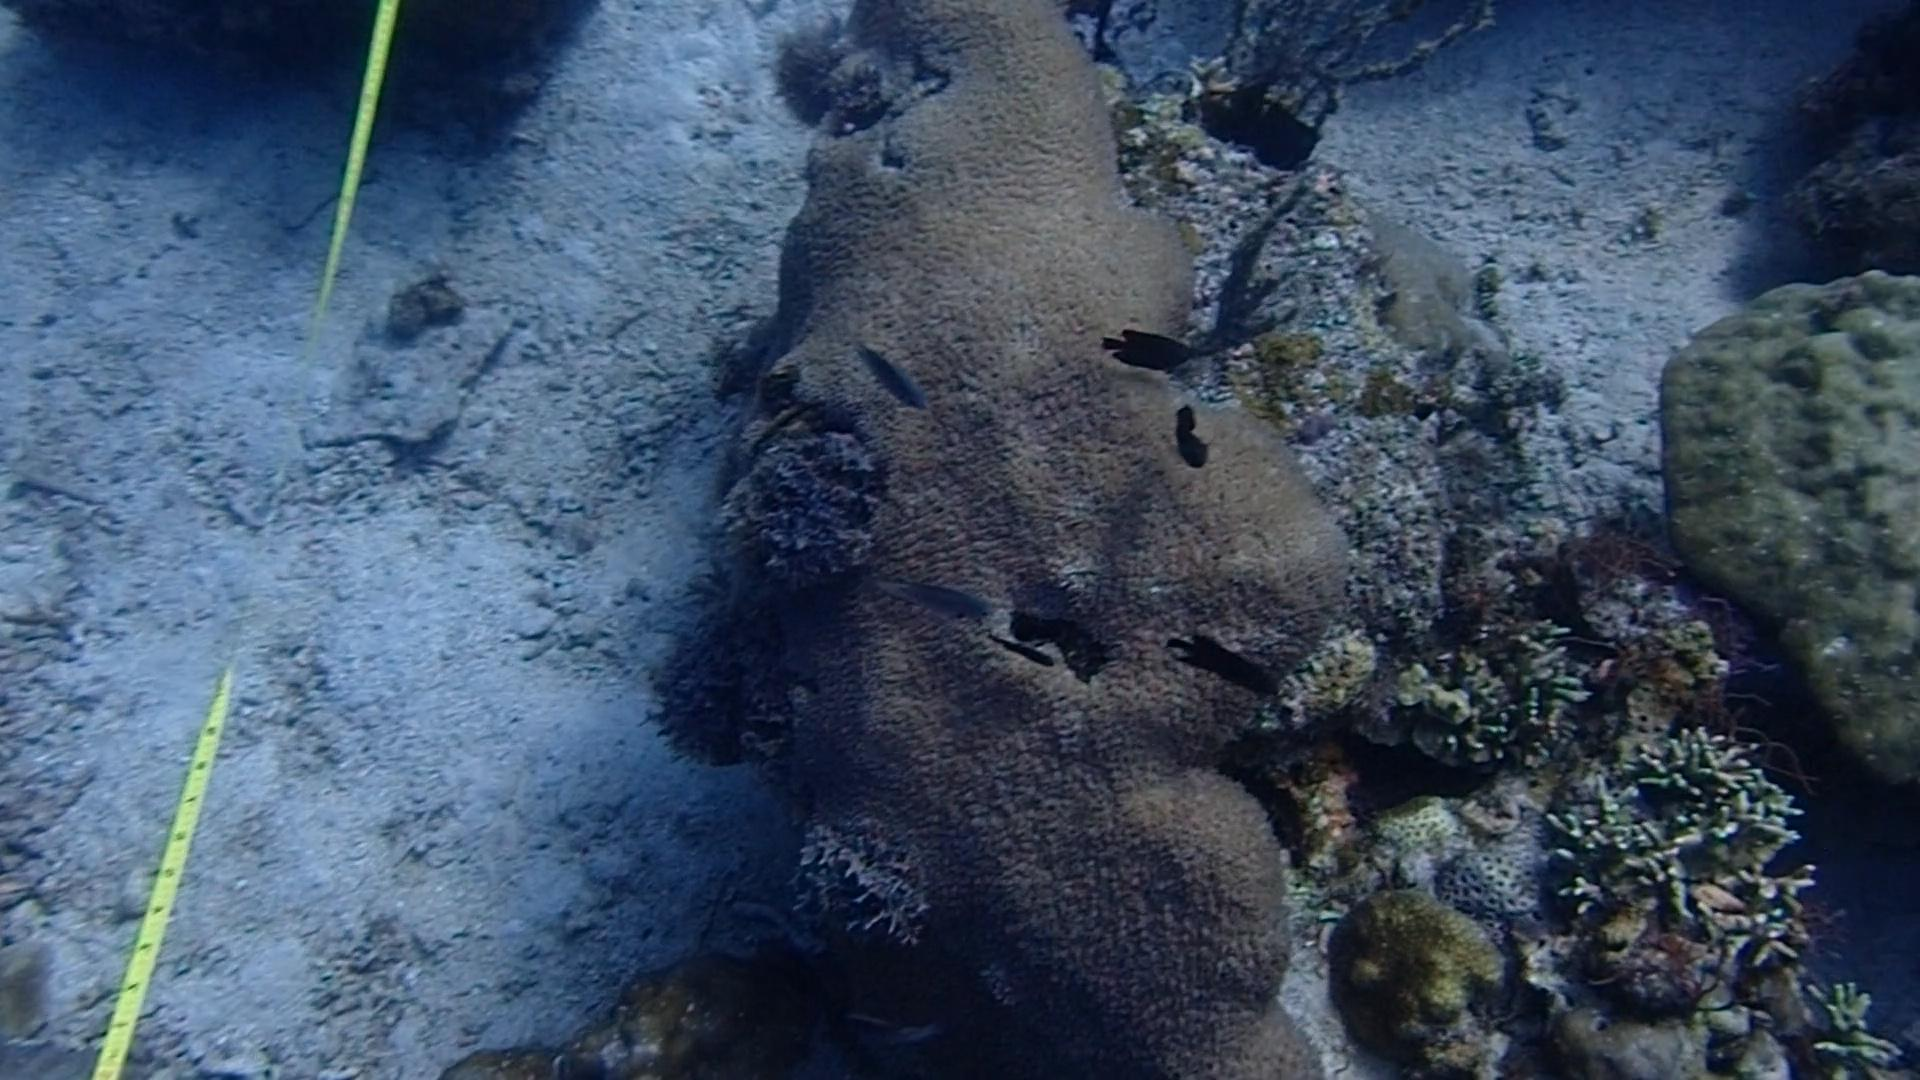Dark Fish: (1176, 625, 1299, 700), (1092, 319, 1200, 377), (1154, 397, 1226, 464), (984, 625, 1065, 679)
Light Fish: (874, 566, 997, 644), (848, 328, 945, 421), (852, 998, 964, 1065)
